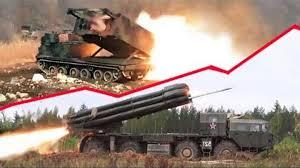MIL_SAM_TEL: (65, 83, 276, 161)
